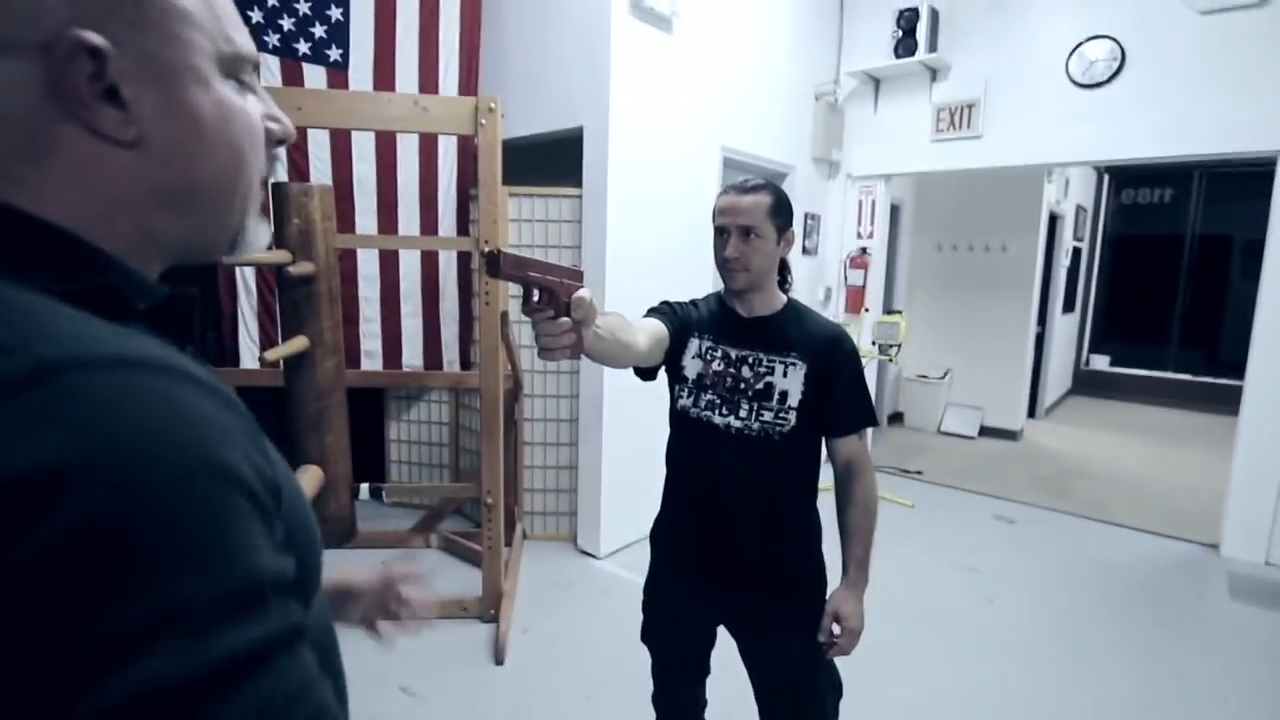pistol: (485, 248, 587, 363)
